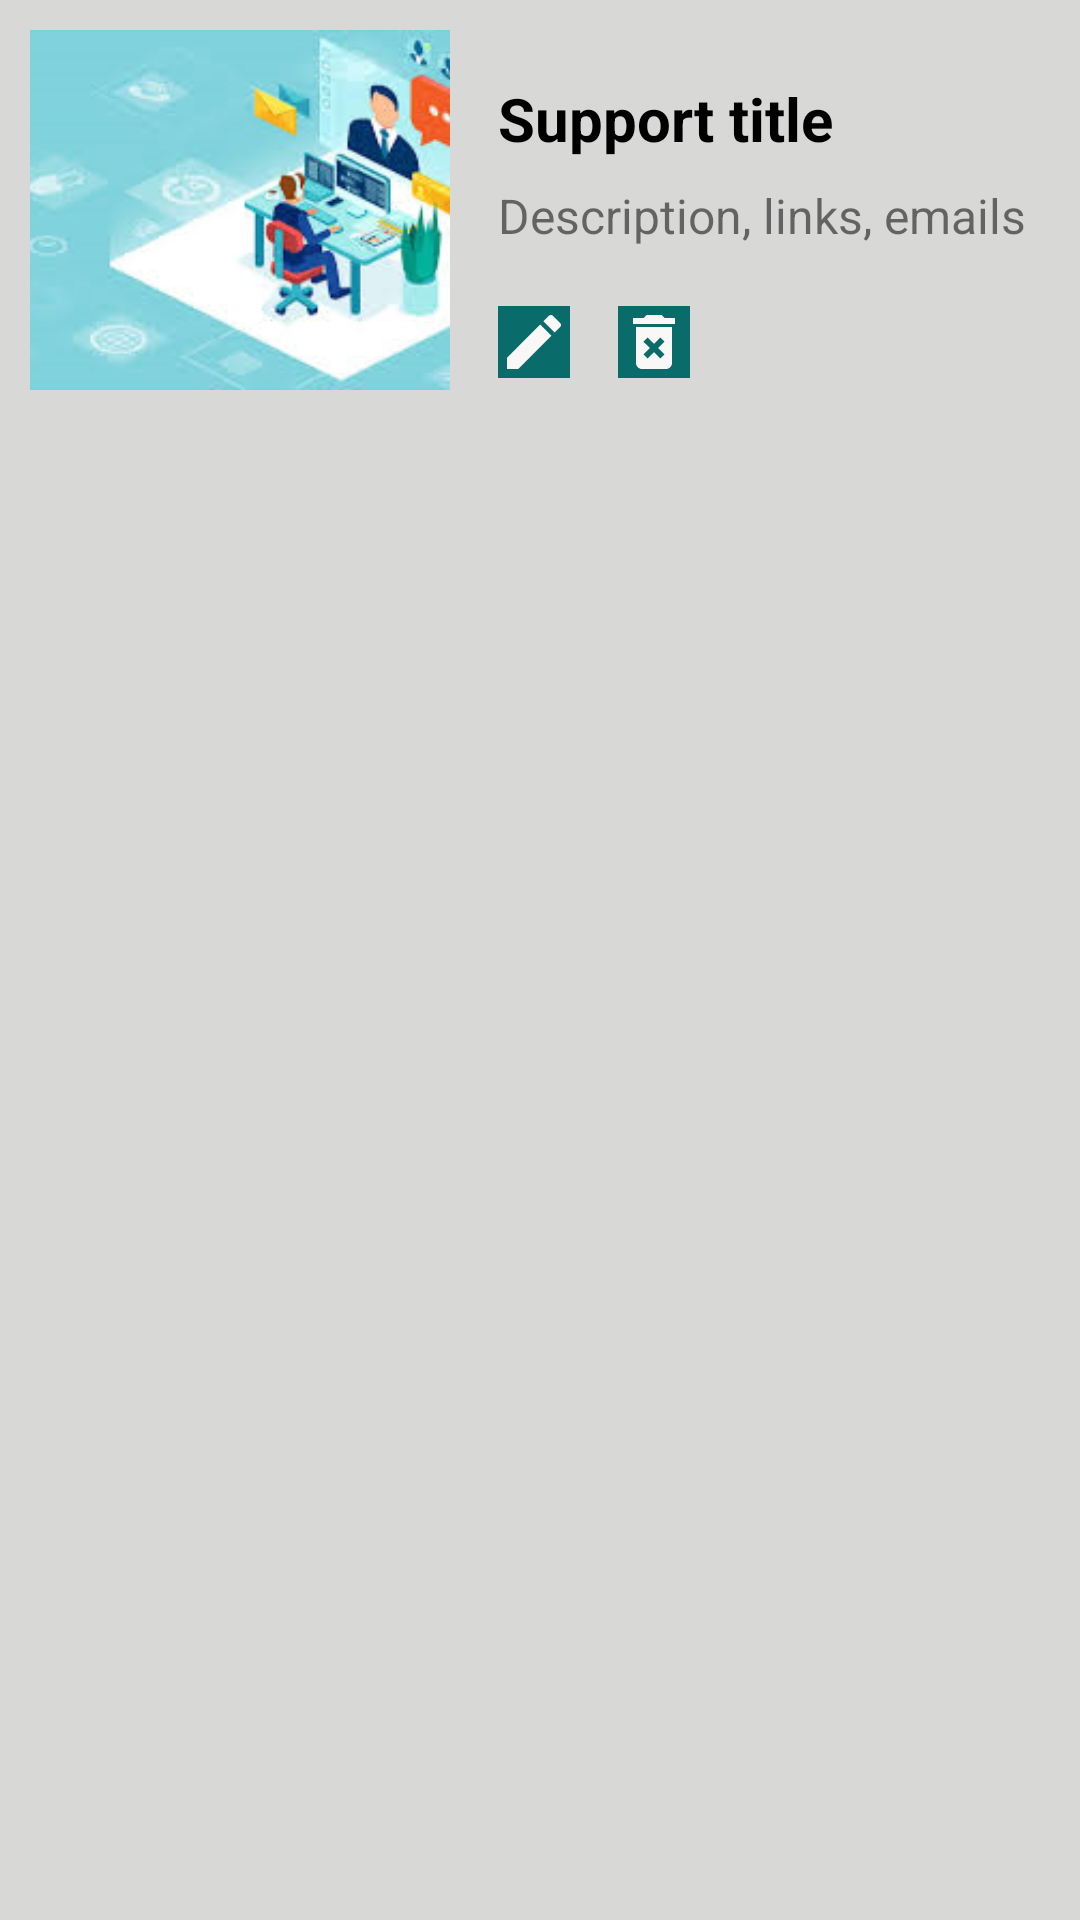

Locate icon controls on the screen. Image size 1080*1920, boxes as bbox=[x1, y1, x2, y2].
delete: bbox=[618, 306, 690, 378]
edit: bbox=[498, 306, 570, 378]
